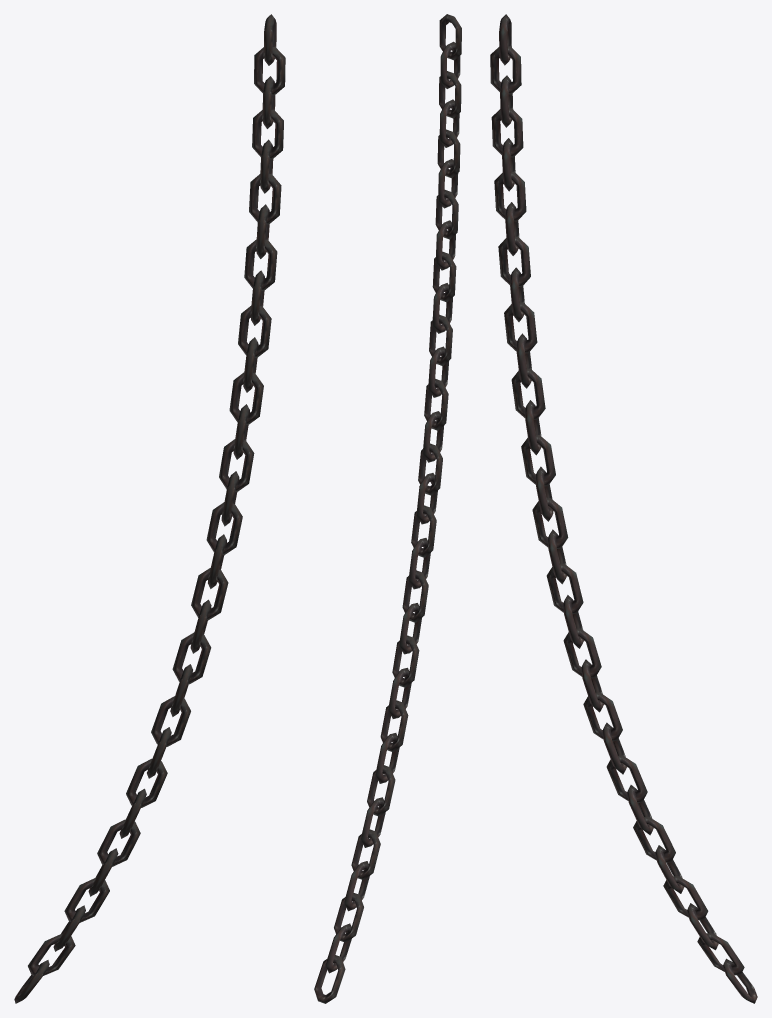
Rendered from dcfx4_tielian_dan.FBX.
3 renders of one model, left to right at view 1: azimuth 90°, elevation 25°; view 2: azimuth 150°, elevation 25°; view 3: azimuth 270°, elevation 25°, orthographic. The views are drawn at different scales.
Parts seen in each view (by area): view 1: cdfx4_tielian_dan; view 2: cdfx4_tielian_dan; view 3: cdfx4_tielian_dan.
Boxes of the visible parts, left/top/right/bottom form: cdfx4_tielian_dan: left=14, top=14, right=285, bottom=1003; cdfx4_tielian_dan: left=314, top=14, right=461, bottom=1003; cdfx4_tielian_dan: left=490, top=14, right=757, bottom=1003.
Size of the model in its own units: 69.56 by 1605 by 398.
